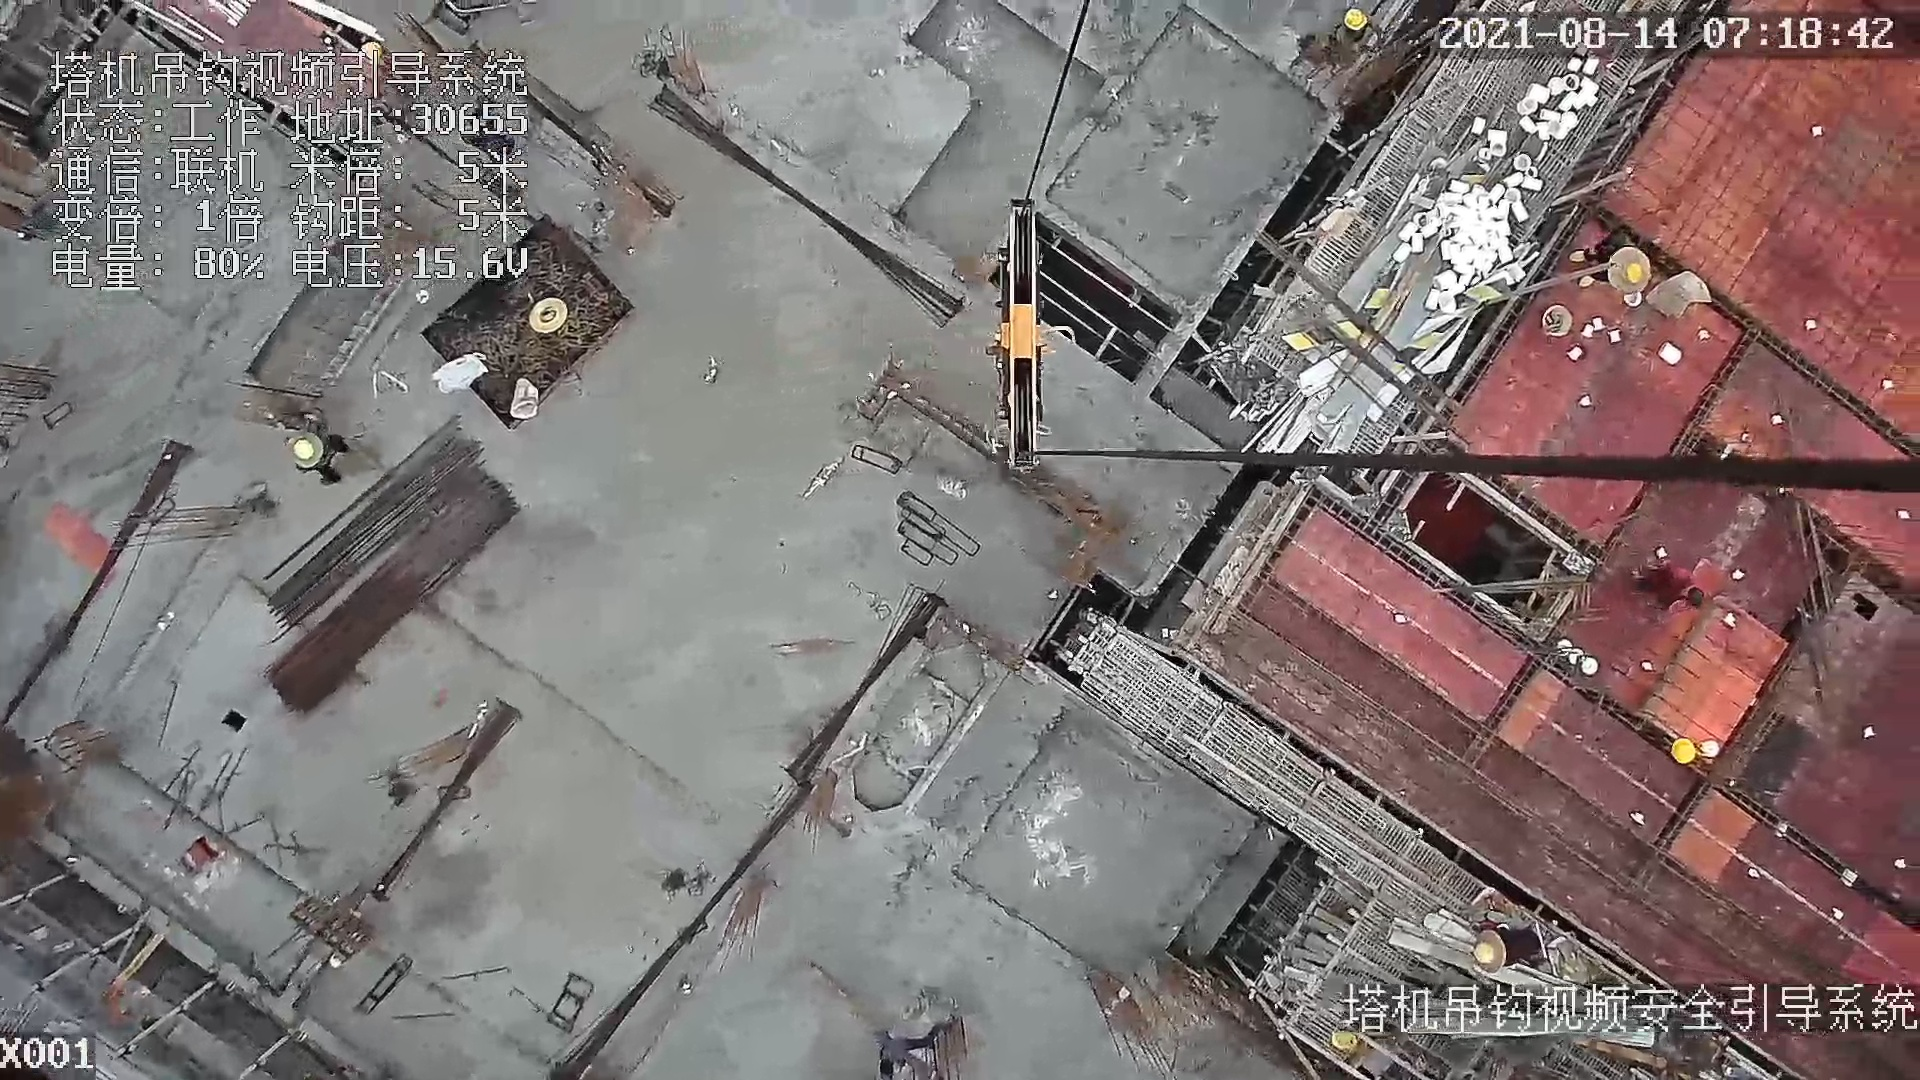helmet: (1664, 735, 1697, 763), (1337, 5, 1367, 31), (288, 435, 314, 460)
hook: (987, 195, 1055, 477)
person: (277, 428, 346, 483), (1328, 9, 1373, 65)
